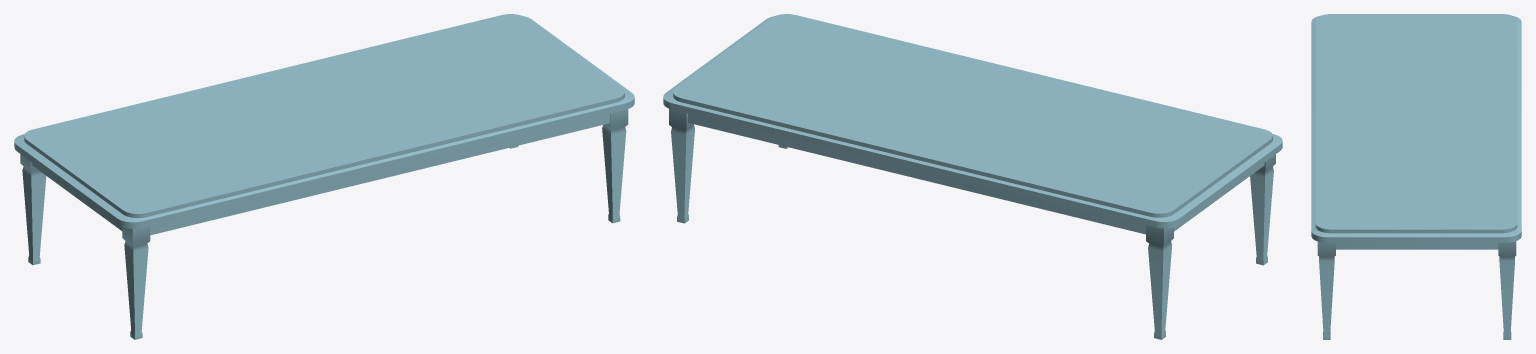
Rendered from lo_Prop_LargeTable_A.fbx.
3 views of the same model, side by side, from view 1: azimuth 30°, elevation 25°; view 2: azimuth 150°, elevation 25°; view 3: azimuth 270°, elevation 25° (orthographic). The views are drawn at different scales.
Visible parts, largest first — view 1: lo_Prop_LargeTable_A_LOD0; view 2: lo_Prop_LargeTable_A_LOD0; view 3: lo_Prop_LargeTable_A_LOD0.
Part boxes in pixels (box(x1,y1,x2,y2)): lo_Prop_LargeTable_A_LOD0: box(14, 14, 634, 339); lo_Prop_LargeTable_A_LOD0: box(663, 14, 1282, 339); lo_Prop_LargeTable_A_LOD0: box(1311, 14, 1521, 339).
Size of what is drawn, in the model's own units: 5 by 1.19 by 2.
